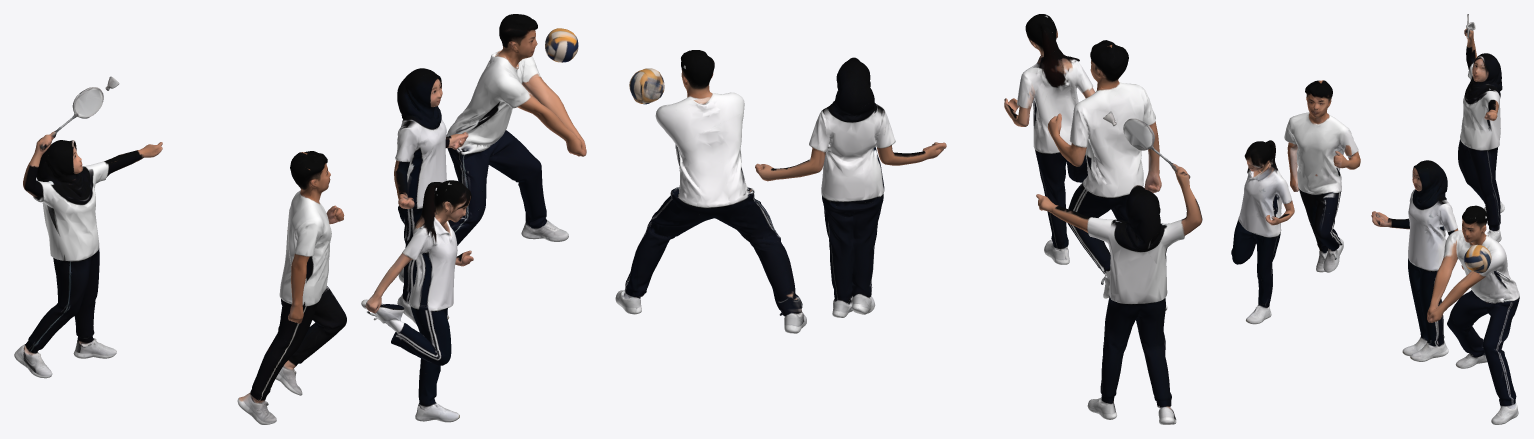
Rendered from 7__Kesehatan_final.glb.
3 views of the same model, side by side, from view 1: azimuth 30°, elevation 25°; view 2: azimuth 150°, elevation 25°; view 3: azimuth 270°, elevation 25° (orthographic). The views are drawn at different scales.
Visible parts, largest first — view 1: mesh_node; view 2: mesh_node; view 3: mesh_node.
Part boxes in pixels (left/top/right/bottom): mesh_node: left=14, top=14, right=586, bottom=424; mesh_node: left=615, top=14, right=1202, bottom=424; mesh_node: left=1231, top=14, right=1519, bottom=424.
Bounding box in the file's own units: 1.9 × 0.9423 × 1.09.
Materials: 1 (1 with a texture image).
